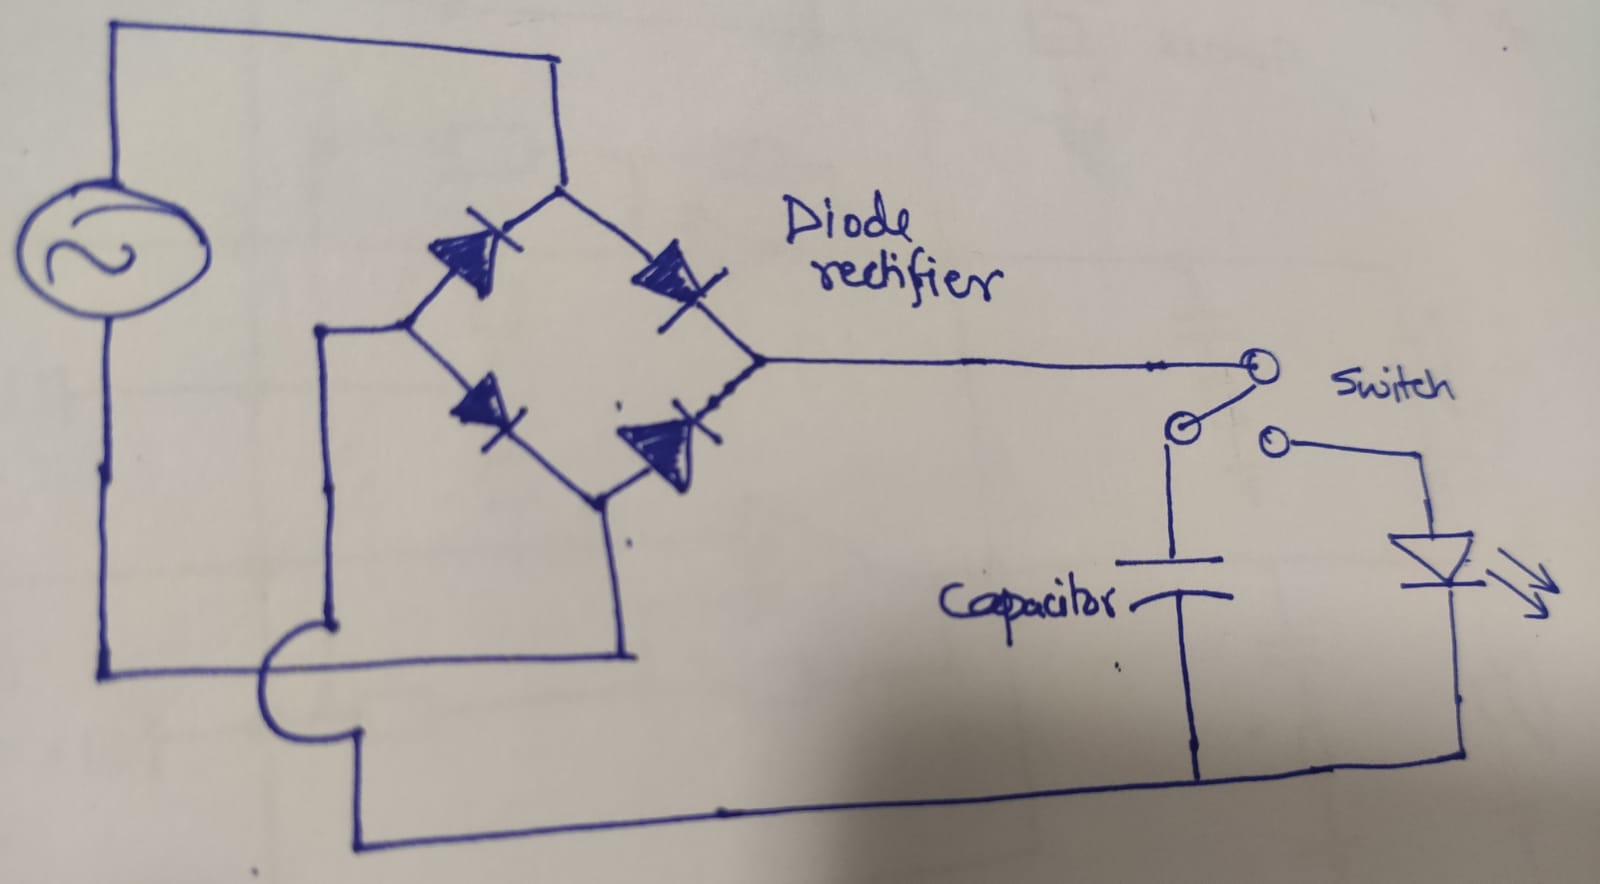capacitor.unpolarized: (1110, 548, 1238, 615)
crossover: (253, 616, 369, 746)
diode: (614, 396, 724, 496), (424, 204, 525, 299), (630, 236, 730, 332), (450, 371, 528, 453)
diode.light_emitting: (1387, 526, 1562, 619)
junction: (603, 637, 641, 676), (86, 656, 126, 693), (340, 828, 380, 865), (583, 484, 617, 521), (394, 307, 423, 342), (1181, 768, 1213, 798), (1448, 739, 1478, 770), (537, 45, 566, 76), (306, 318, 337, 347), (744, 347, 774, 378), (547, 175, 576, 205), (100, 12, 128, 39), (1406, 445, 1430, 469)
switch: (1159, 346, 1294, 463)
text: (779, 184, 1007, 314), (933, 567, 1120, 652), (1332, 363, 1452, 403)
voltage.dc_ac: (12, 173, 214, 326)
